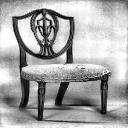chair_success: (6, 4, 115, 122)
